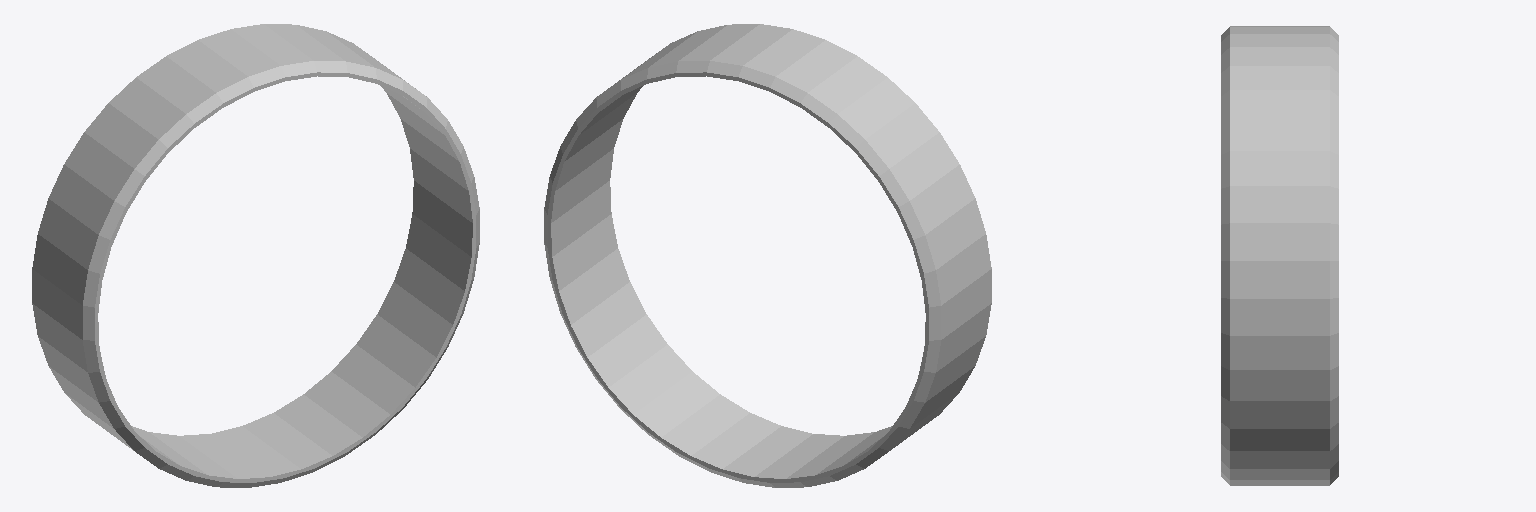
Rendered from j2n6s300_link_1_visuals_mesh_1.obj.
The picture shows the model from 3 angles: view 1: azimuth 30°, elevation 25°; view 2: azimuth 150°, elevation 25°; view 3: azimuth 270°, elevation 25°; orthographic projection.
Bounding box in the file's own units: 0.0889 × 0.0892 × 0.023.